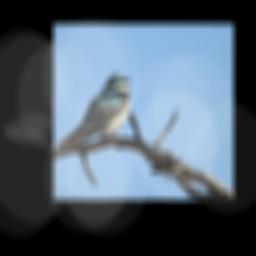Swallow: (56, 72, 131, 149)
